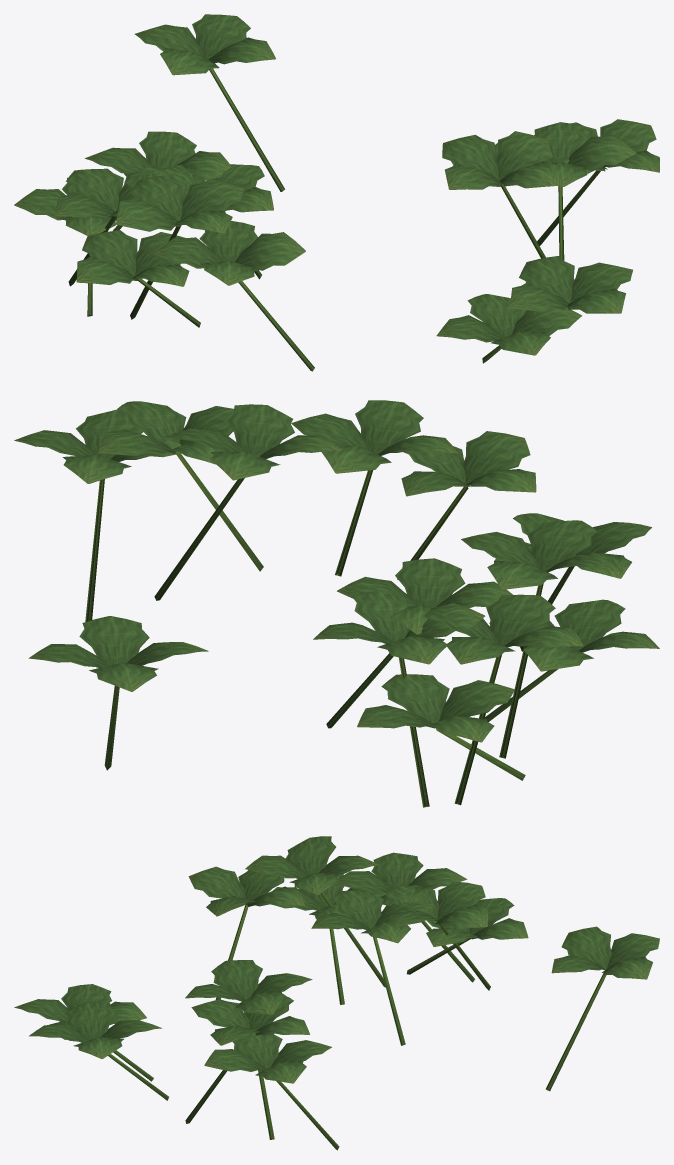
File: GroundIvy_A.fbx
3 views of the same model, one above another, from view 1: azimuth 30°, elevation 25°; view 2: azimuth 150°, elevation 25°; view 3: azimuth 270°, elevation 25° (orthographic). The views are drawn at different scales.
Parts seen in each view (by area): view 1: GroundIvy_A_LOD0; view 2: GroundIvy_A_LOD0; view 3: GroundIvy_A_LOD0.
Boxes of the visible parts, box(x1,y1,x2,y2) form: GroundIvy_A_LOD0: box(14, 14, 659, 371); GroundIvy_A_LOD0: box(14, 400, 659, 807); GroundIvy_A_LOD0: box(14, 836, 659, 1150).
Size of what is drawn, in the model's own units: 29.51 by 7.61 by 33.44.
1 material, 1 textured.
